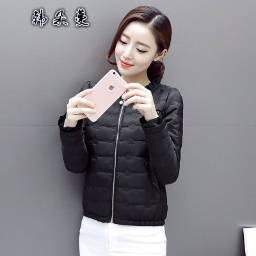face: (106, 5, 172, 82)
